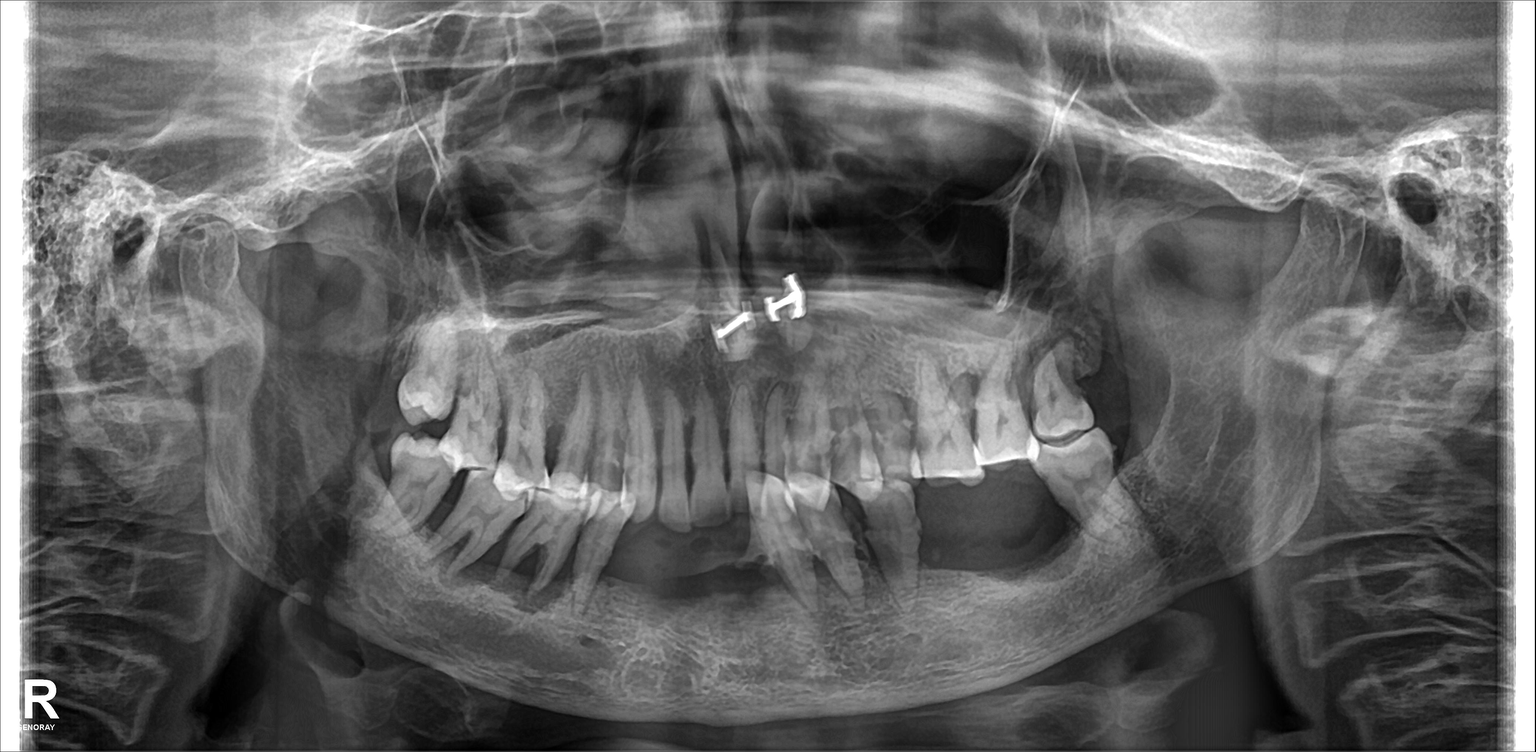Missing Tooth: (1080, 337, 1141, 432), (685, 532, 734, 627), (618, 516, 656, 621), (1004, 490, 1046, 581), (924, 493, 961, 590), (736, 530, 772, 620), (661, 523, 693, 621), (965, 495, 1003, 576), (1050, 493, 1079, 567)
